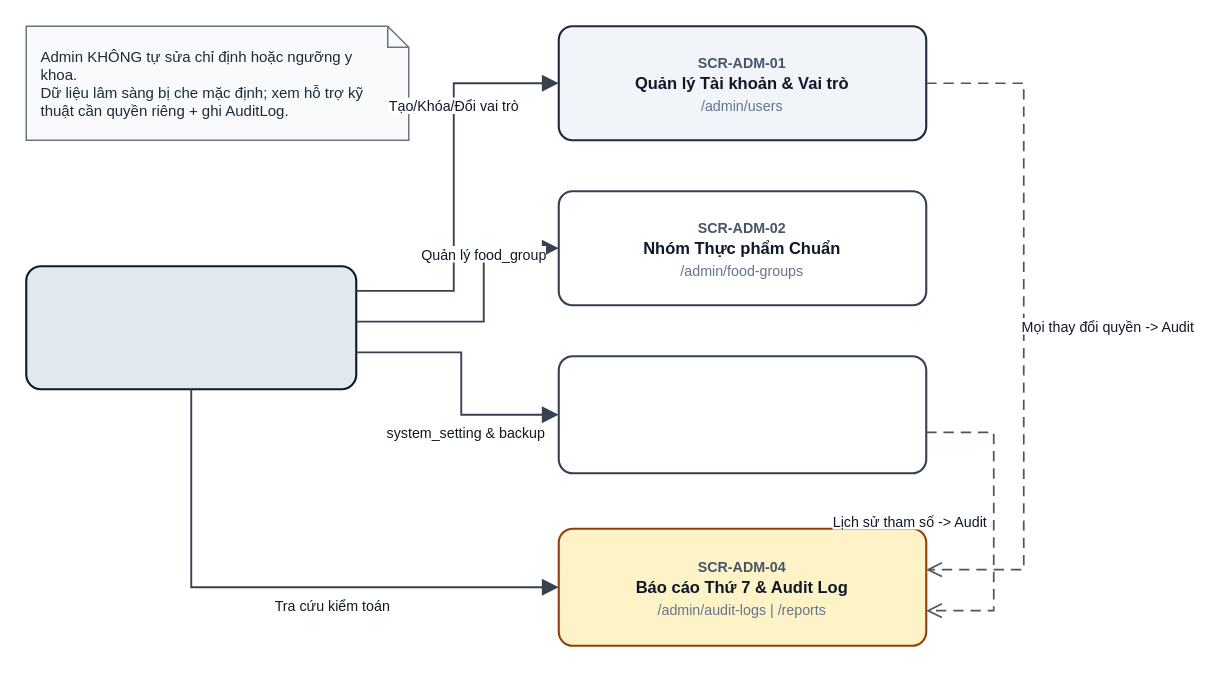
The diagram is 1221 pixels wide and 674 high, and some of its shapes have lost their labels. Each missing label, with the centre of its shape:
"SCR-ADM-00 Bảng điều khiển Quản trị /admin/dashboard" goes at (x=190, y=327).
"SCR-ADM-03 Tham số Vận hành & Sao lưu /admin/settings | /operations" goes at (x=742, y=414).
